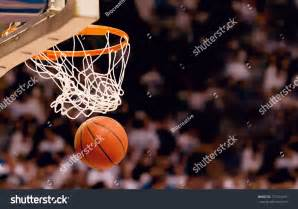basketball: (74, 116, 128, 170)
